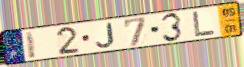2: (55, 25, 82, 57)
3: (159, 11, 187, 43)
7: (122, 15, 148, 48)
I: (24, 30, 38, 61)
J: (95, 22, 116, 49)
L: (192, 10, 217, 38)
